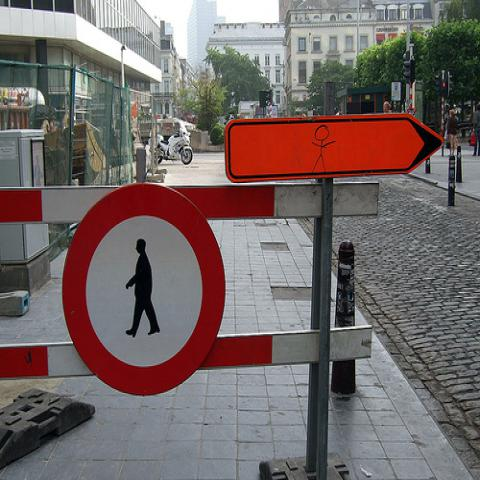motorcycle: (158, 130, 194, 164)
